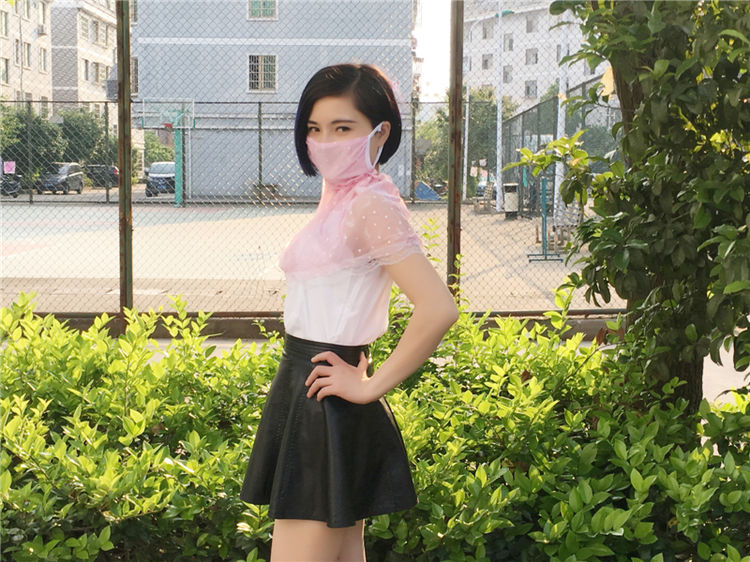face_mask: (303, 97, 375, 174)
